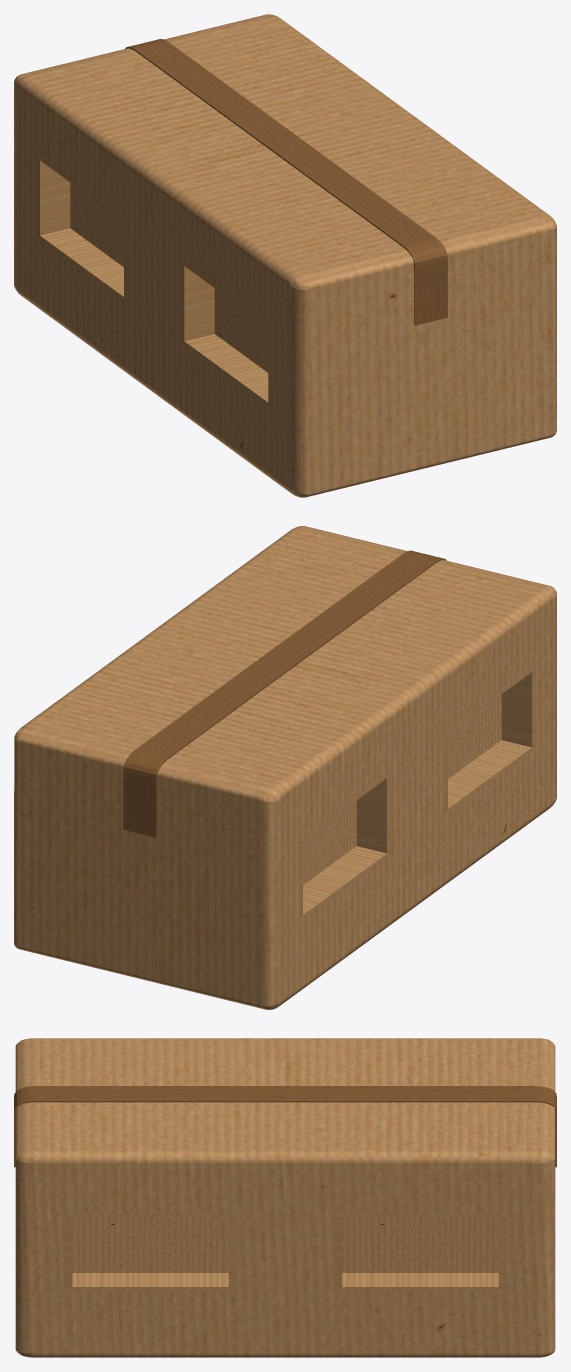
Rendered from Package1.fbx.
The picture shows the model from 3 angles, top to bottom: view 1: azimuth 30°, elevation 25°; view 2: azimuth 150°, elevation 25°; view 3: azimuth 270°, elevation 25°; orthographic projection. The views are drawn at different scales.
Visible parts, largest first — view 1: Package, PackageTape, PackageSupport_1, PackageSupport_3; view 2: Package, PackageTape, PackageSupport_1, PackageSupport_3; view 3: Package, PackageSupport_2, PackageSupport_4, PackageTape.
Boxes of the visible parts, x1,y1,x2,y2 form: Package: (14,14,556,497); PackageTape: (125,39,447,325); PackageSupport_1: (35,154,127,303); PackageSupport_3: (180,259,272,409); Package: (14,526,556,1009); PackageTape: (123,550,446,837); PackageSupport_1: (299,771,391,921); PackageSupport_3: (443,665,535,815); Package: (15,1038,555,1357); PackageSupport_2: (334,1213,506,1290); PackageSupport_4: (64,1213,236,1290); PackageTape: (14,1086,556,1167).
Bounding box in the file's own units: 20 × 16.12 × 38.23.
